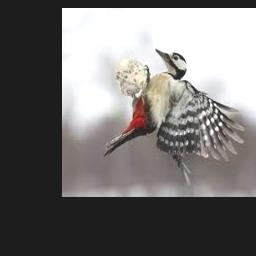Woodpecker: (103, 49, 245, 184)
